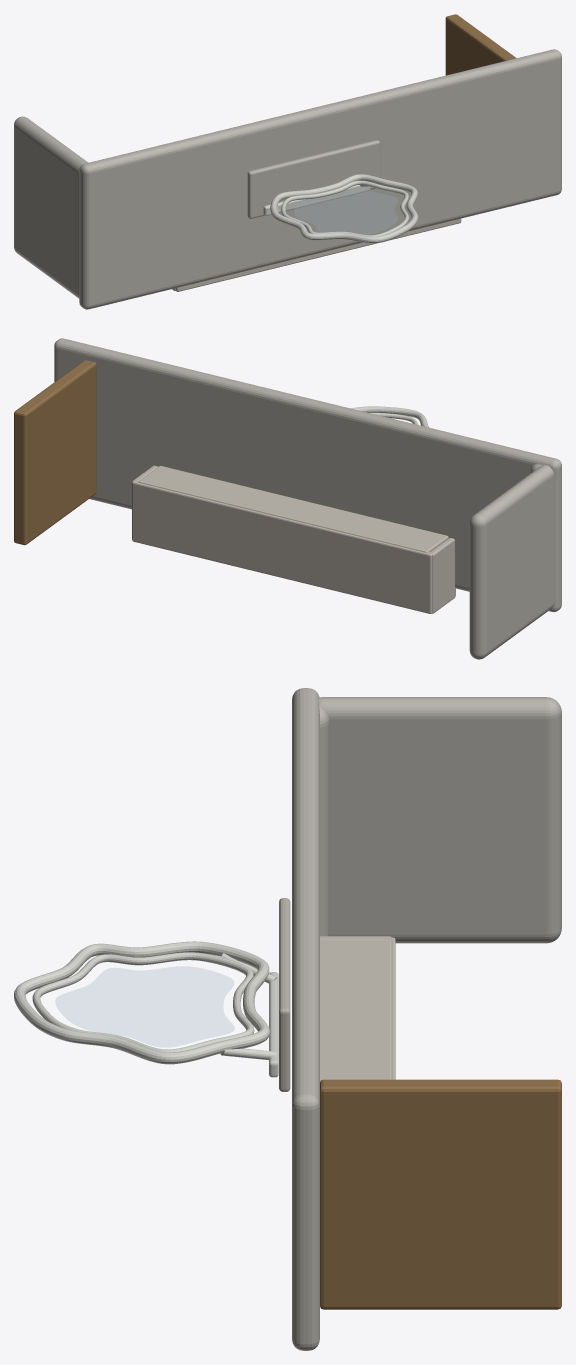
3 views of the same model, one above another, from view 1: azimuth 30°, elevation 25°; view 2: azimuth 150°, elevation 25°; view 3: azimuth 270°, elevation 25° (orthographic). The views are drawn at different scales.
Parts seen in each view (by area): view 1: tabletop_slab, left_waterfall_side_panel, mirror_base_plate, mirror_glass_sheet, right_wood_side_panel, mirror_outer_tube, drawer_carcass, mirror_inner_tube, mirror_slot_rail; view 2: tabletop_slab, drawer_carcass, left_waterfall_side_panel, right_wood_side_panel, mirror_outer_tube; view 3: left_waterfall_side_panel, right_wood_side_panel, tabletop_slab, drawer_carcass, mirror_glass_sheet, mirror_outer_tube, mirror_inner_tube, mirror_base_plate, left_waterfall_rounded_lip, mirror_slot_rail.
Part boxes in pixels (x1,y1,x2,y2): tabletop_slab: [79, 49, 561, 309]; left_waterfall_side_panel: [14, 116, 88, 298]; mirror_base_plate: [247, 140, 380, 218]; mirror_glass_sheet: [294, 189, 397, 234]; right_wood_side_panel: [445, 14, 516, 75]; mirror_outer_tube: [270, 174, 418, 243]; drawer_carcass: [172, 218, 461, 291]; mirror_inner_tube: [281, 180, 409, 236]; mirror_slot_rail: [263, 185, 370, 215]; tabletop_slab: [54, 338, 561, 612]; drawer_carcass: [132, 465, 455, 613]; left_waterfall_side_panel: [469, 465, 554, 659]; right_wood_side_panel: [14, 360, 96, 545]; mirror_outer_tube: [351, 406, 429, 427]; left_waterfall_side_panel: [319, 697, 561, 943]; right_wood_side_panel: [320, 1079, 561, 1309]; tabletop_slab: [292, 688, 319, 1350]; drawer_carcass: [320, 936, 395, 1081]; mirror_glass_sheet: [55, 966, 234, 1047]; mirror_outer_tube: [14, 941, 269, 1064]; mirror_inner_tube: [32, 952, 254, 1052]; mirror_base_plate: [279, 898, 290, 1091]; left_waterfall_rounded_lip: [319, 703, 329, 936]; mirror_slot_rail: [269, 972, 278, 1077].
Bounding box in the file's own units: 3 × 0.905 × 1.67.
